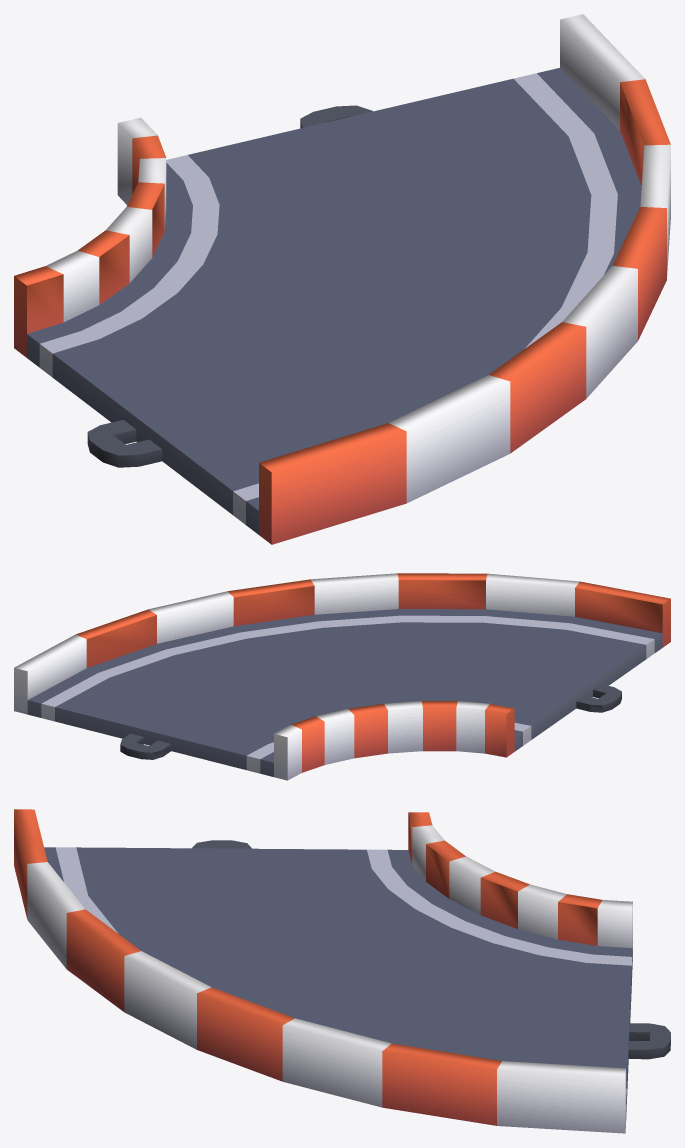
Rendered from track-road-wide-corner-small.003_lev2.glb.
3 renders of one model, top to bottom at view 1: azimuth 30°, elevation 25°; view 2: azimuth 150°, elevation 25°; view 3: azimuth 270°, elevation 25°, orthographic. The views are drawn at different scales.
Parts seen in each view (by area): view 1: track-road-wide-corner-small.003_lev2; view 2: track-road-wide-corner-small.003_lev2; view 3: track-road-wide-corner-small.003_lev2.
Part boxes in pixels (bbox=[...]): track-road-wide-corner-small.003_lev2: bbox=[14, 14, 670, 544]; track-road-wide-corner-small.003_lev2: bbox=[14, 573, 670, 780]; track-road-wide-corner-small.003_lev2: bbox=[14, 809, 670, 1133].
Bounding box in the file's own units: 3.24 × 0.3 × 3.16.
1 material, 1 textured.
